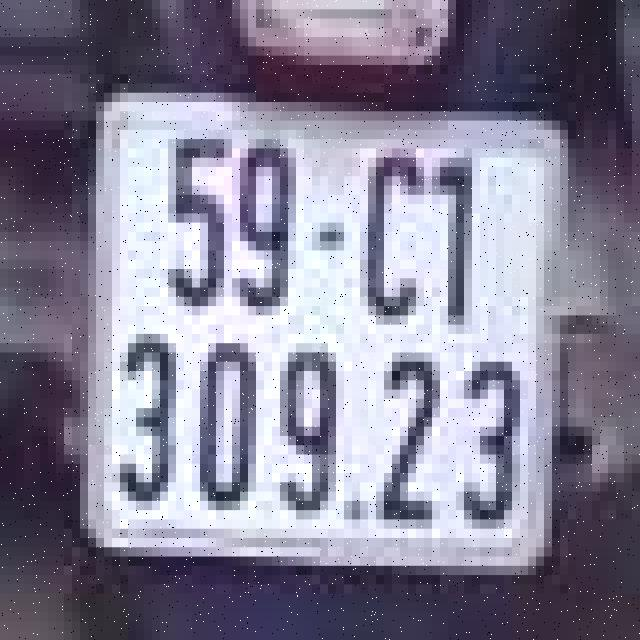0: (192, 329, 256, 515)
1: (428, 135, 492, 357)
2: (380, 348, 444, 524)
3: (108, 320, 188, 515), (464, 352, 520, 538)
5: (156, 112, 228, 316)
9: (228, 116, 292, 329), (272, 329, 336, 524)
C: (356, 125, 428, 329)
